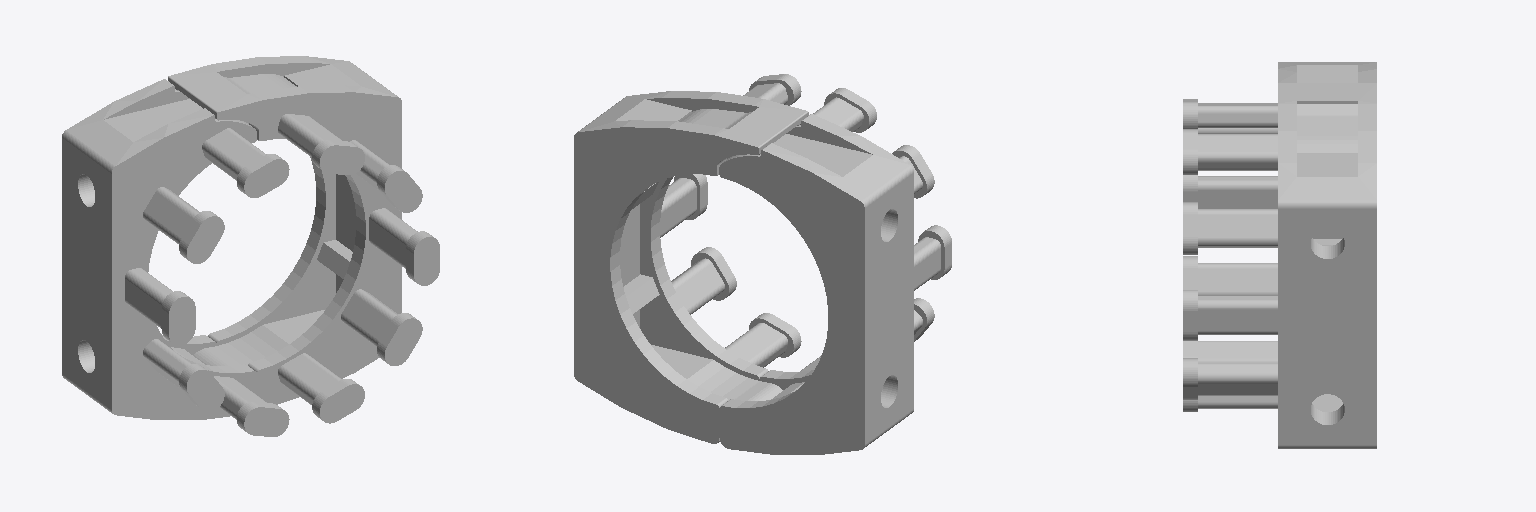
File: terminal_element_TL_30_01_Z1.obj
The picture shows the model from 3 angles: view 1: azimuth 30°, elevation 25°; view 2: azimuth 150°, elevation 25°; view 3: azimuth 270°, elevation 25°; orthographic projection.
Size of the model in its own units: 0.044 by 0.0449 by 0.0255.